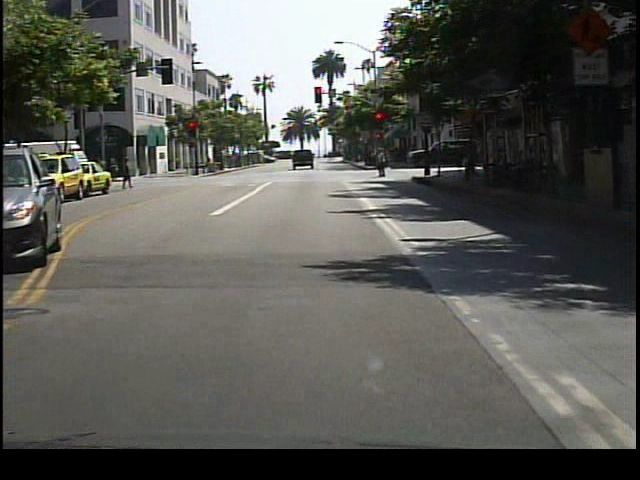person: (461, 138, 480, 181), (375, 148, 392, 180), (119, 157, 134, 192)
